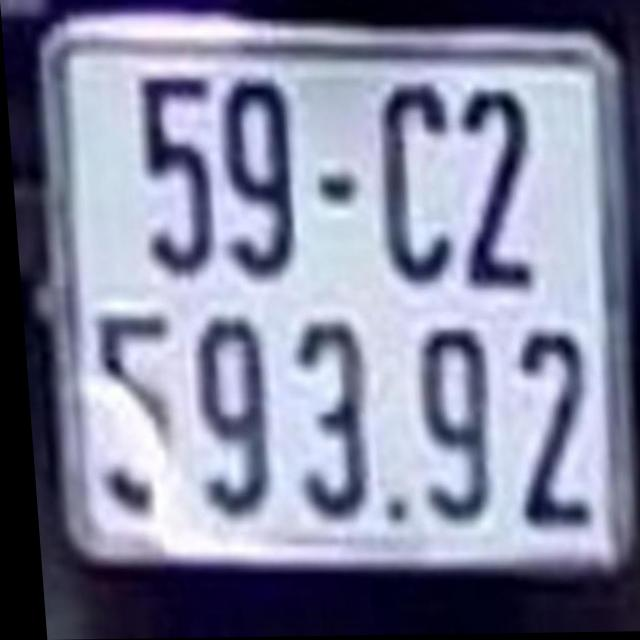2: (458, 89, 533, 294), (508, 325, 584, 527)
3: (286, 316, 360, 511)
5: (85, 313, 173, 514), (134, 72, 219, 277)
9: (217, 81, 296, 275), (415, 325, 486, 522), (194, 320, 264, 517)
C: (376, 85, 454, 276)
